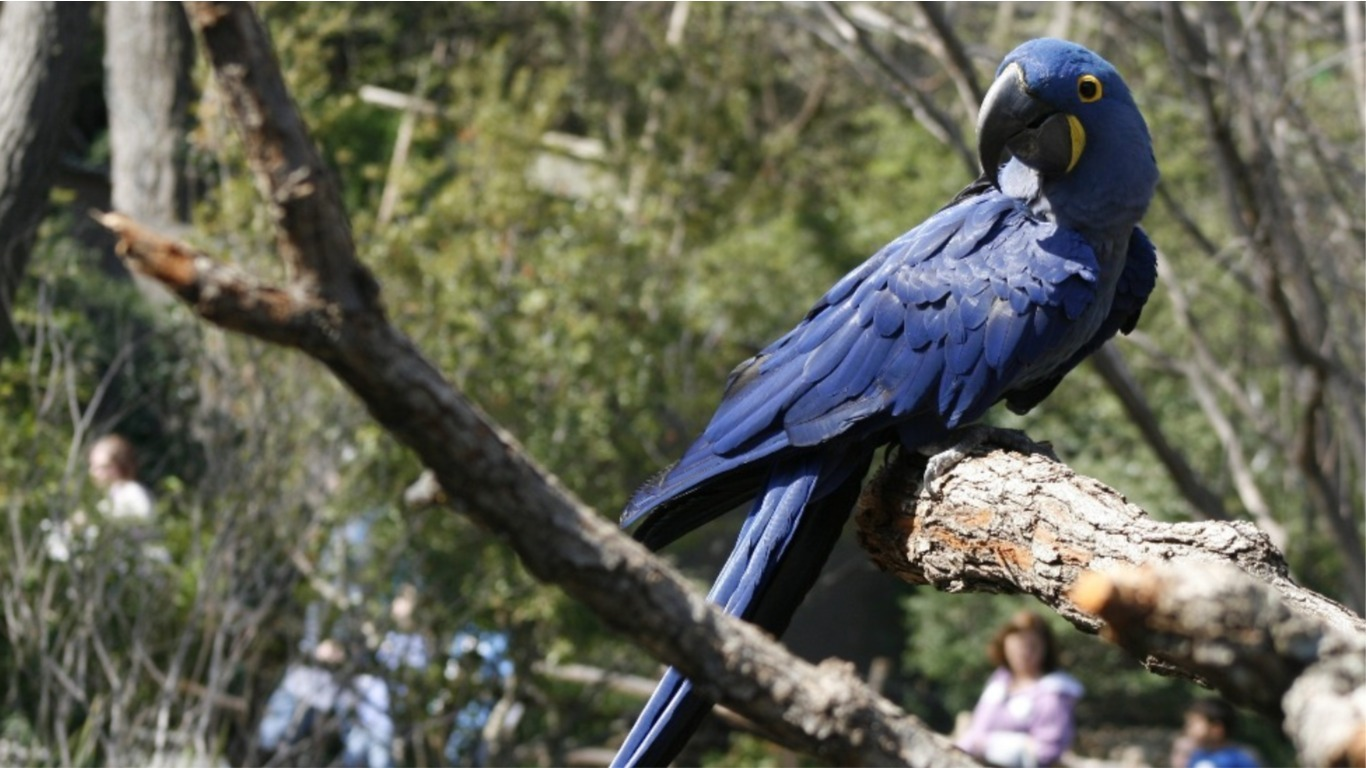guacamaya: (609, 25, 1207, 525)
